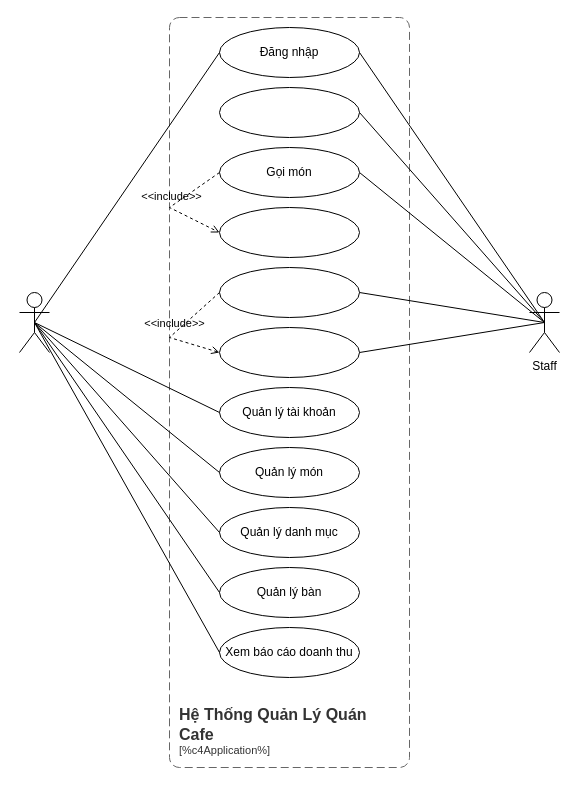
This 577x785 diagram has some shape labels left out. The shapes that lost their labels are listed below. From the top down, each one's centre as x and y in pixels, then its label:
point 289,112: Xem danh sách bàn
point 289,232: Tạo Bill
point 289,292: Thanh toán
point 34,322: Admin
point 289,352: In hóa đơn
